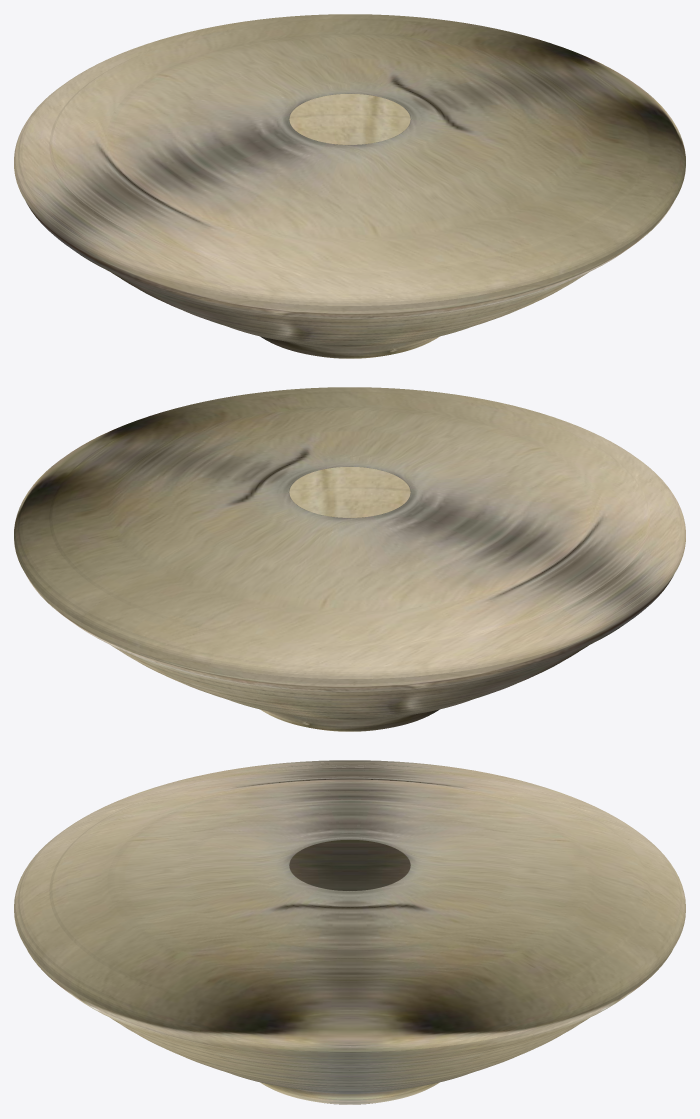
Rendered from cma-137339.glb.
3 renders of one model, top to bottom at view 1: azimuth 30°, elevation 25°; view 2: azimuth 150°, elevation 25°; view 3: azimuth 270°, elevation 25°, orthographic.
Parts seen in each view (by area): view 1: geometry_0; view 2: geometry_0; view 3: geometry_0.
Part boxes in pixels (bbox=[...]): geometry_0: bbox=[14, 14, 685, 358]; geometry_0: bbox=[14, 387, 685, 731]; geometry_0: bbox=[14, 760, 685, 1104].
Size of the model in its own units: 86.87 by 30 by 86.87.
1 material, 1 textured.
